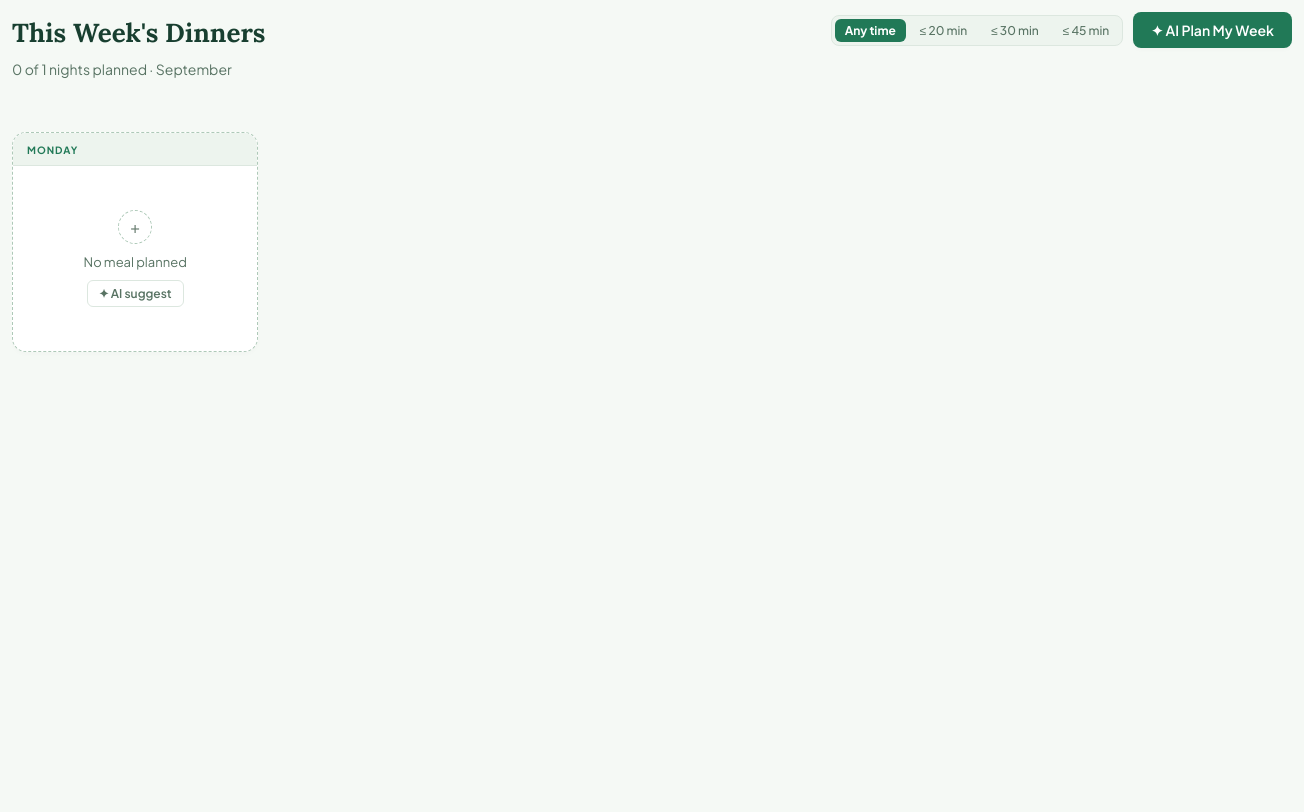
Scenario: recovers the single-day button after an AI failure
The image size is (1304, 812).
Click the button "✦ AI suggest": (135, 294) [87,280,184,307]
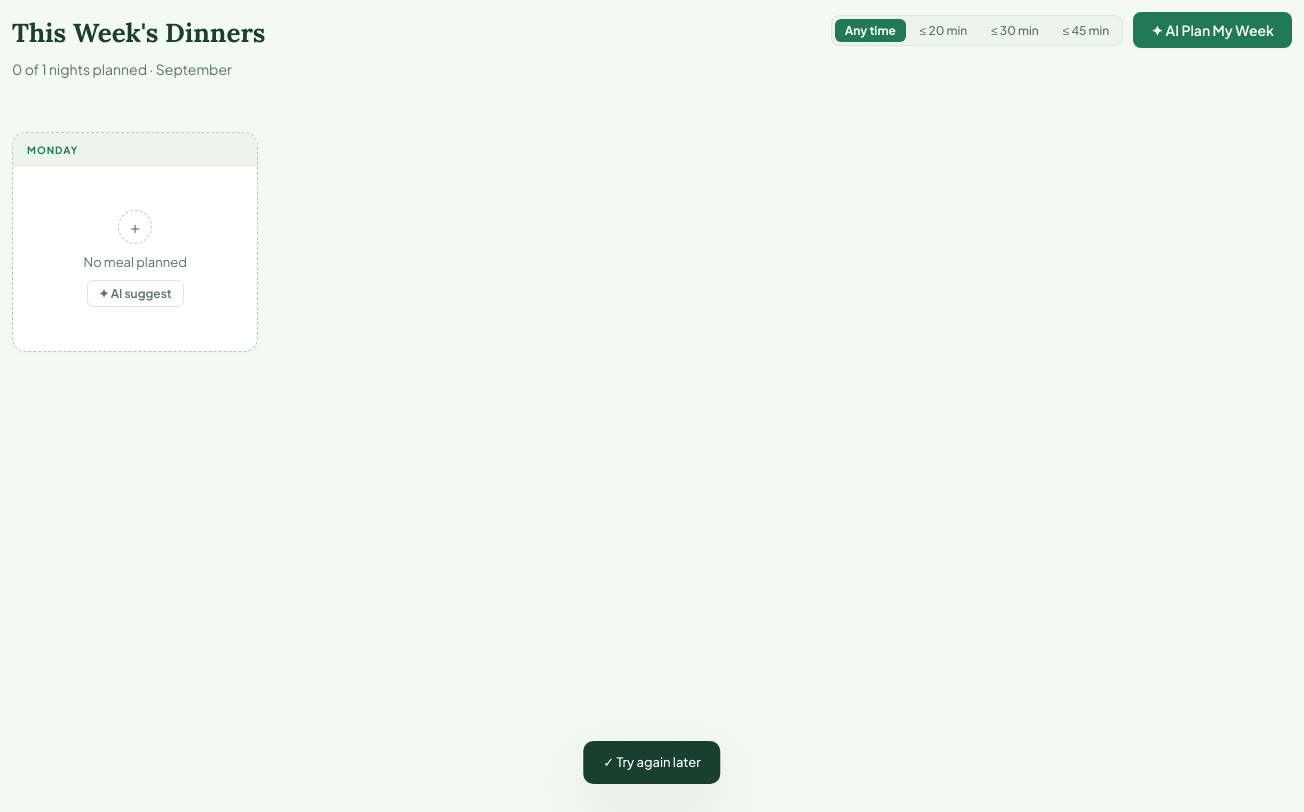
Expected: the text "Try again later" is shown, [616,754,701,770]
